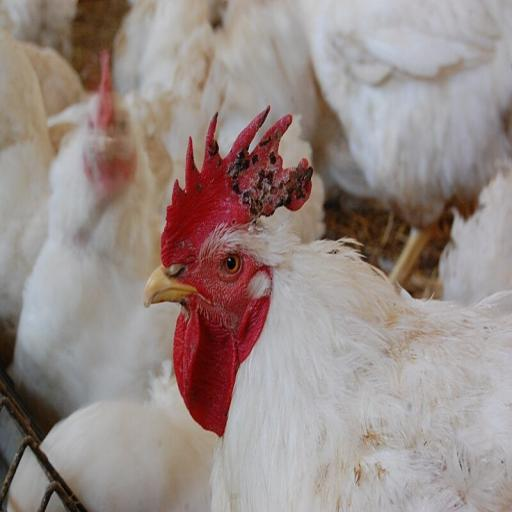disease: (186, 105, 318, 216)
